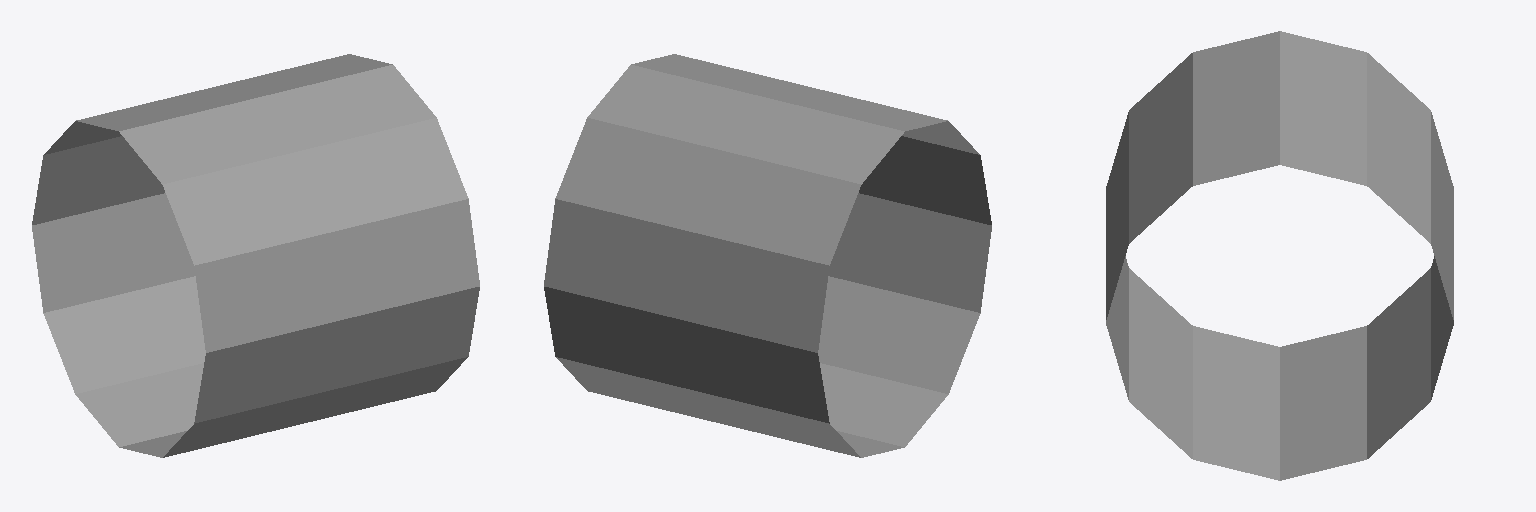
The model's file is WallGunPt3.obj.
The picture shows the model from 3 angles: view 1: azimuth 30°, elevation 25°; view 2: azimuth 150°, elevation 25°; view 3: azimuth 270°, elevation 25°; orthographic projection.
Visible parts, largest first — view 1: Cube.003_Cube.003_Material.001; view 2: Cube.003_Cube.003_Material.001; view 3: Cube.003_Cube.003_Material.001.
Part boxes in pixels (bbox=[...]): Cube.003_Cube.003_Material.001: bbox=[32, 54, 479, 457]; Cube.003_Cube.003_Material.001: bbox=[544, 54, 991, 457]; Cube.003_Cube.003_Material.001: bbox=[1106, 31, 1453, 480].
Bounding box in the file's own units: 2 × 2.2 × 2.2.